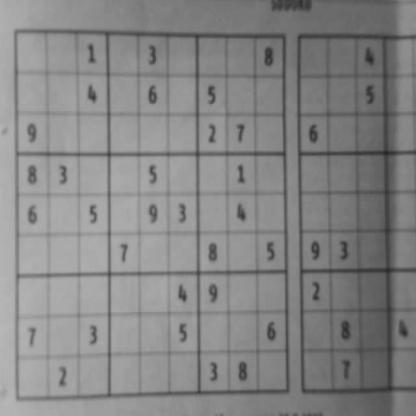sudoku: (12, 27, 292, 404)
